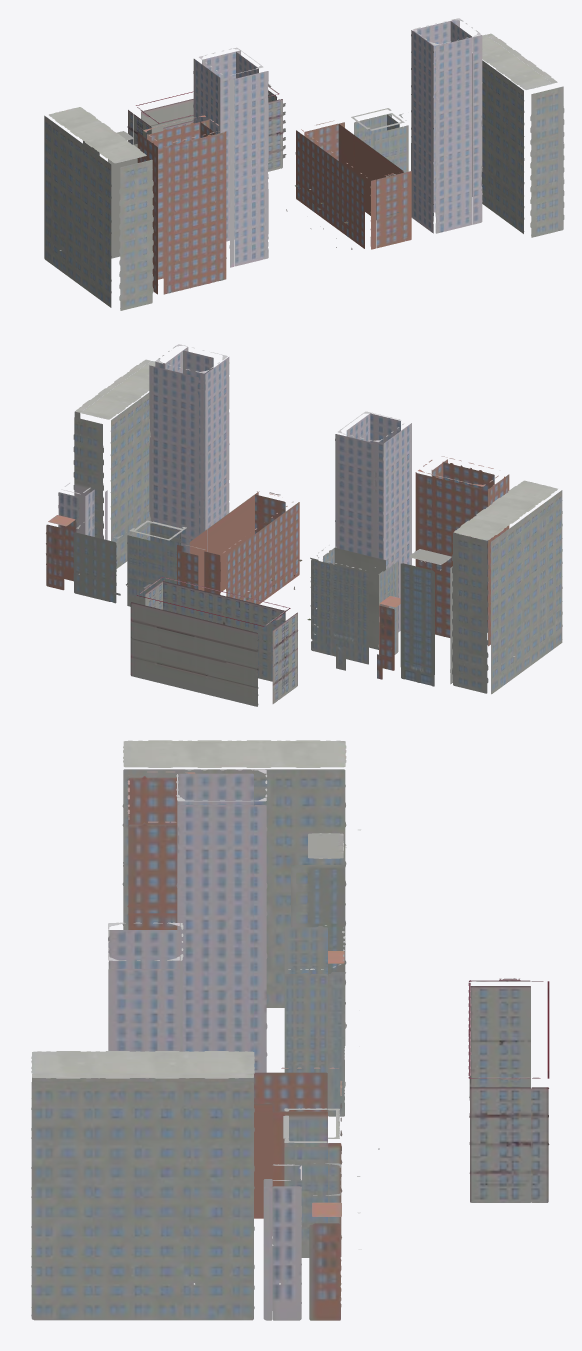
The model's file is block-scene-0-imp.glb.
3 views of the same model, one above another, from view 1: azimuth 30°, elevation 25°; view 2: azimuth 150°, elevation 25°; view 3: azimuth 270°, elevation 25° (orthographic). The views are drawn at different scales.
Parts seen in each view (by area): view 1: block-scene-0-imp; view 2: block-scene-0-imp; view 3: block-scene-0-imp.
Part boxes in pixels (x1,y1,x2,y2): block-scene-0-imp: [44, 18, 564, 310]; block-scene-0-imp: [46, 344, 562, 706]; block-scene-0-imp: [31, 740, 549, 1320].
Size of the model in its own units: 72 by 28.08 by 45.
Materials: 1 (1 with a texture image).
